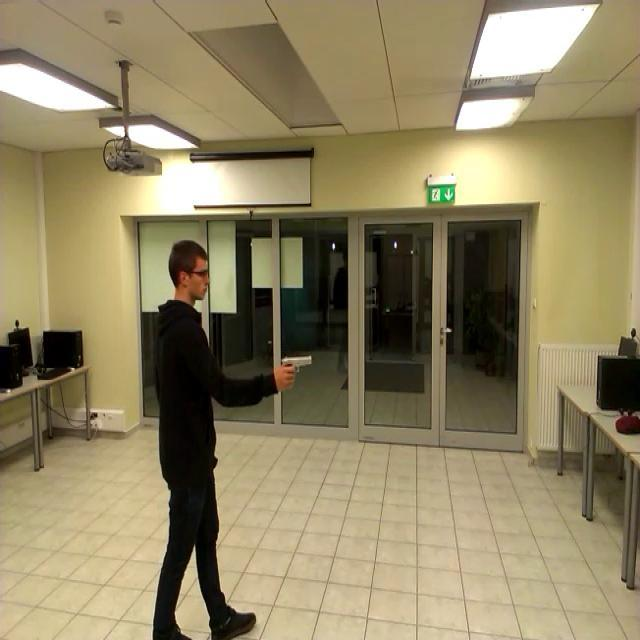Gun: (274, 343, 325, 395)
